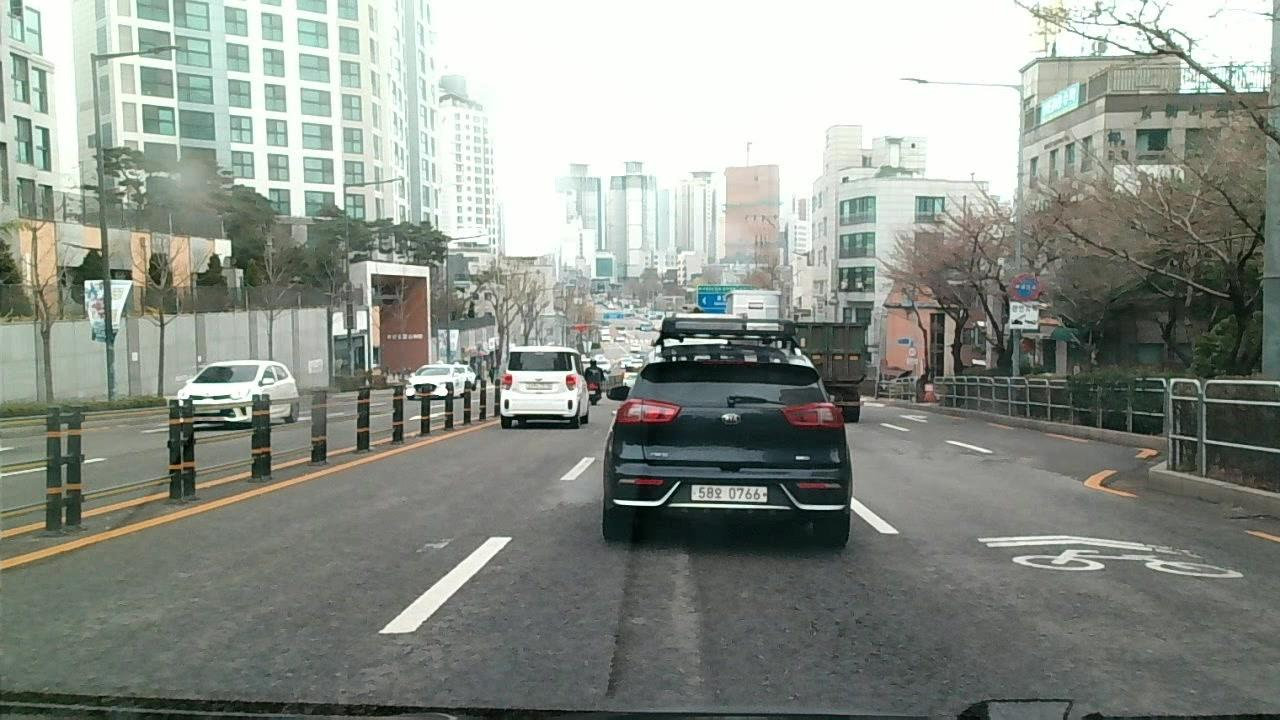banner: (599, 544, 636, 692)
